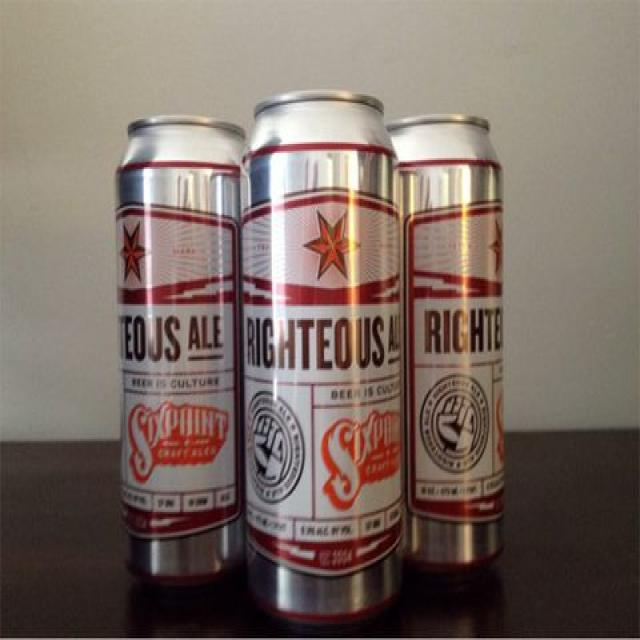non-organic waste: (235, 65, 414, 629), (106, 91, 260, 594), (372, 88, 520, 588)
